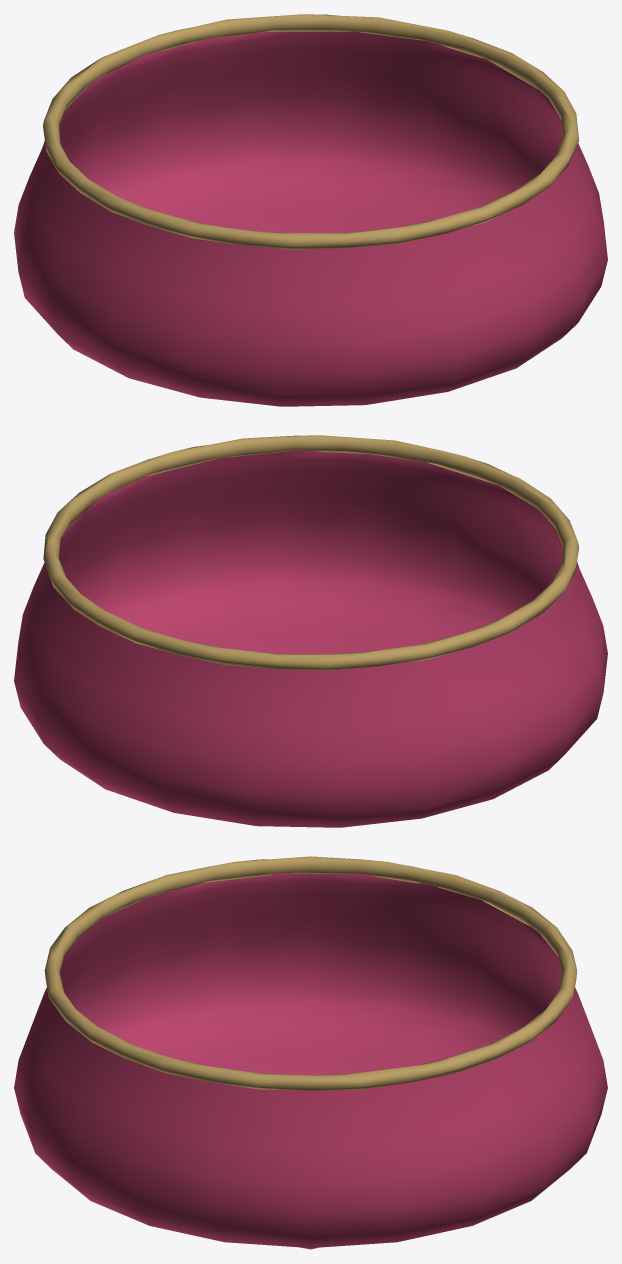
3 renders of one model, top to bottom at view 1: azimuth 30°, elevation 25°; view 2: azimuth 150°, elevation 25°; view 3: azimuth 270°, elevation 25°, orthographic.
Parts seen in each view (by area): view 1: 2541031; view 2: 2541031; view 3: 2541031.
Part boxes in pixels (bbox=[...]): 2541031: bbox=[14, 14, 607, 406]; 2541031: bbox=[14, 435, 607, 827]; 2541031: bbox=[14, 856, 607, 1249].
Size of the model in its own units: 115 by 47.94 by 115.
